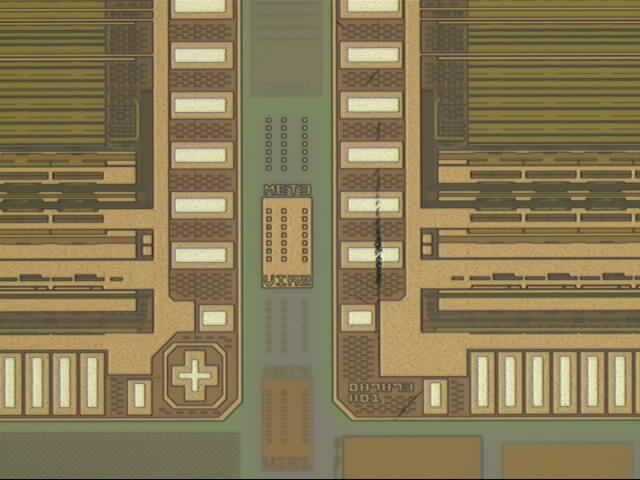SCRATCH: (369, 58, 432, 429)
